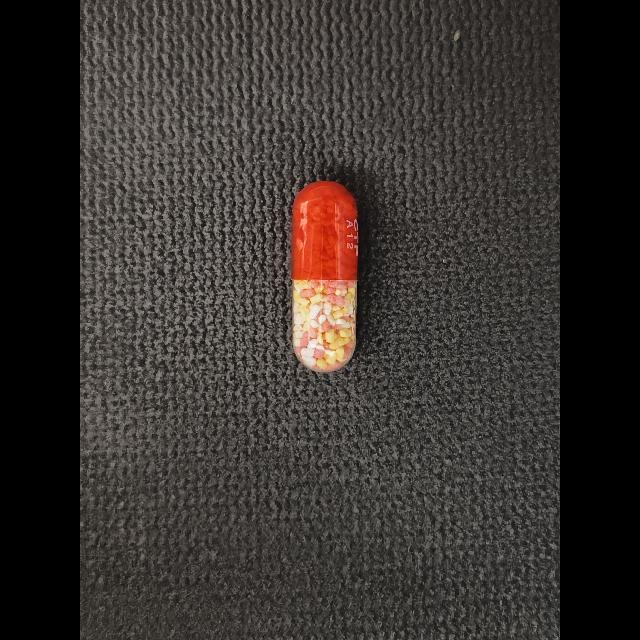Intact Capsule: (292, 181, 358, 373)
